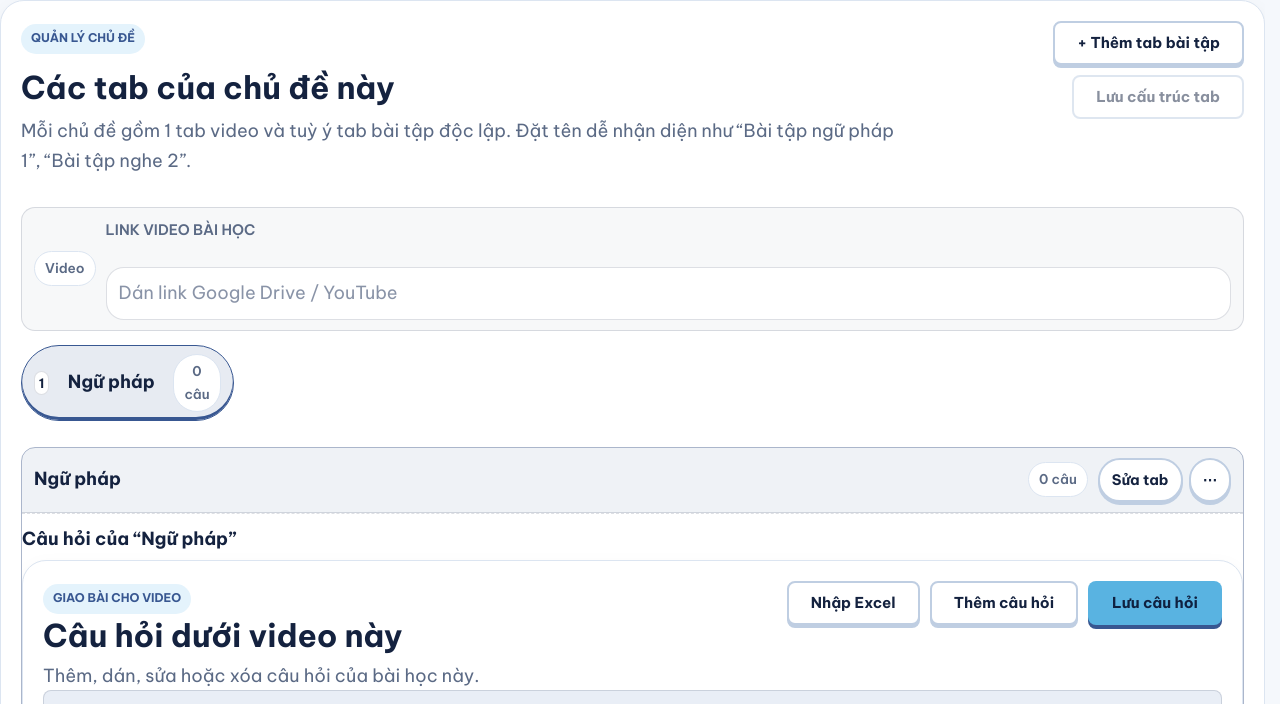
Test case: LessonTabManager — nút Sửa tab › đổi tên thì cả chip lẫn khung nội dung đổi theo
Click the button "Sửa tab" at (1140, 480), box [1098,458,1182,502]
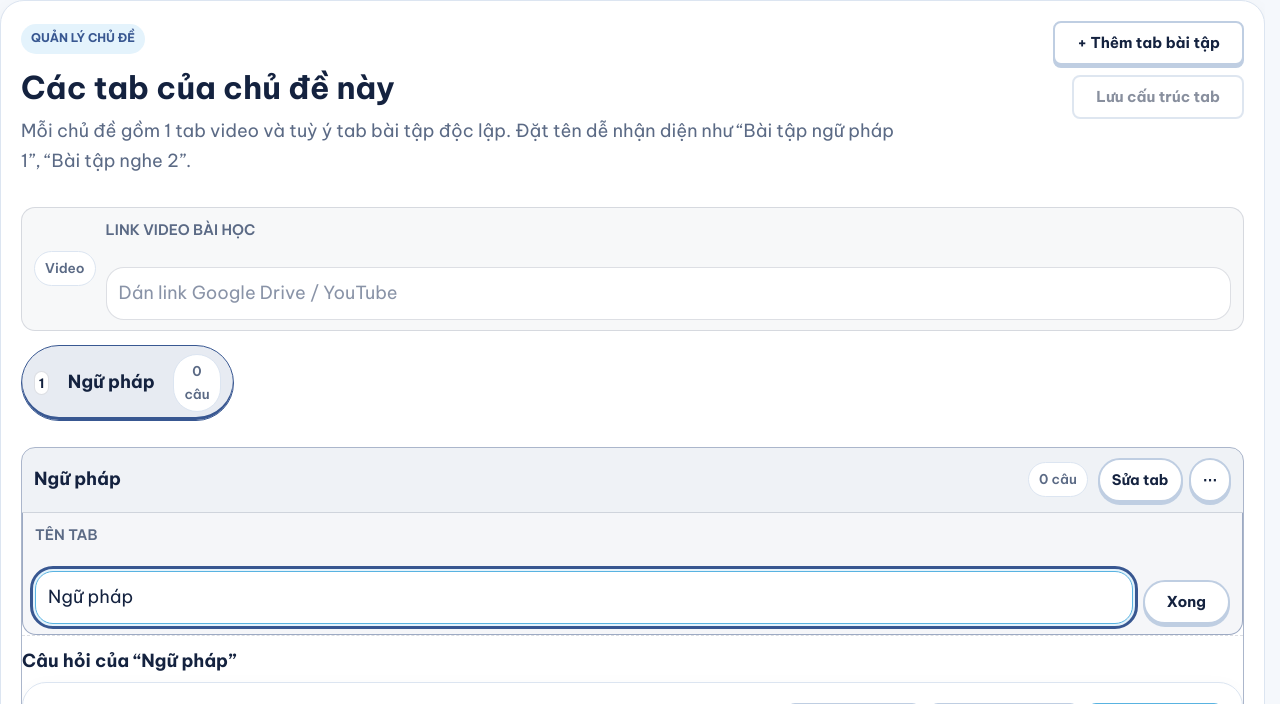
Replace the text in the field labelled "Tên tab" with "Ngữ pháp nâng cao" at (584, 598), box [35,571,1132,624]
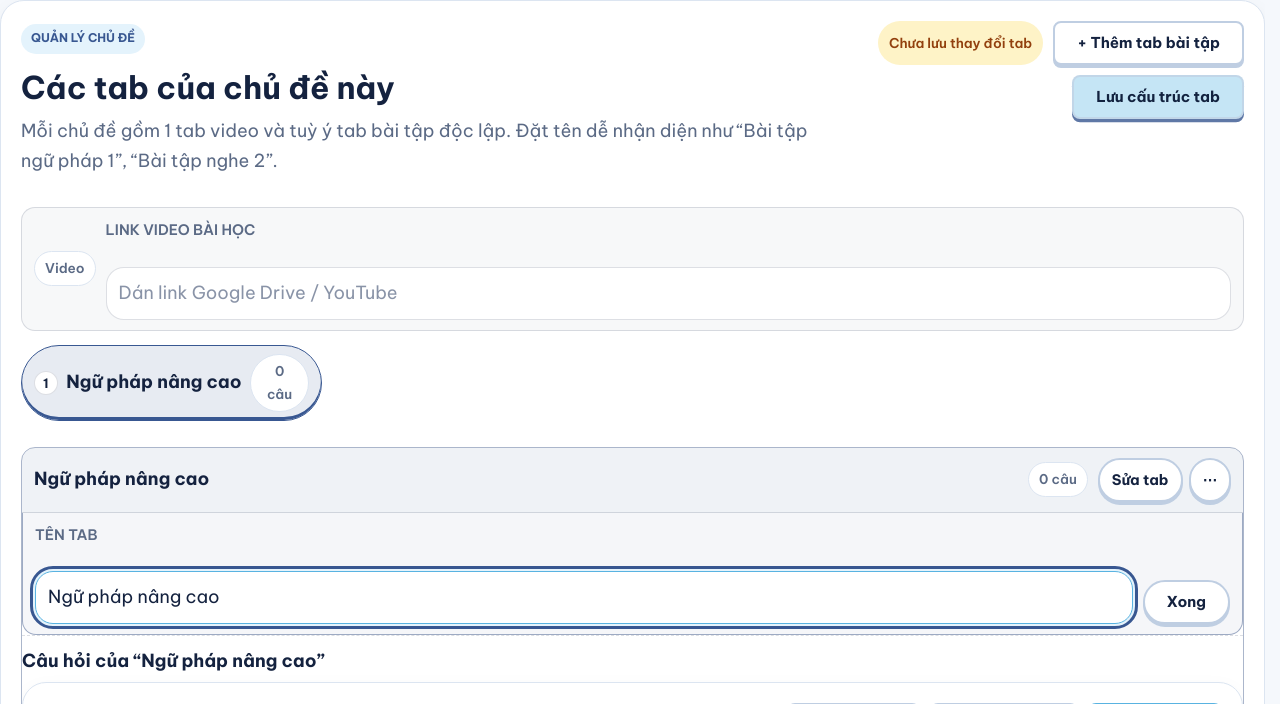
Expected: the 1st text with class "lesson-tab-manager__name" reads "Ngữ pháp nâng cao", [66,370,242,393]
